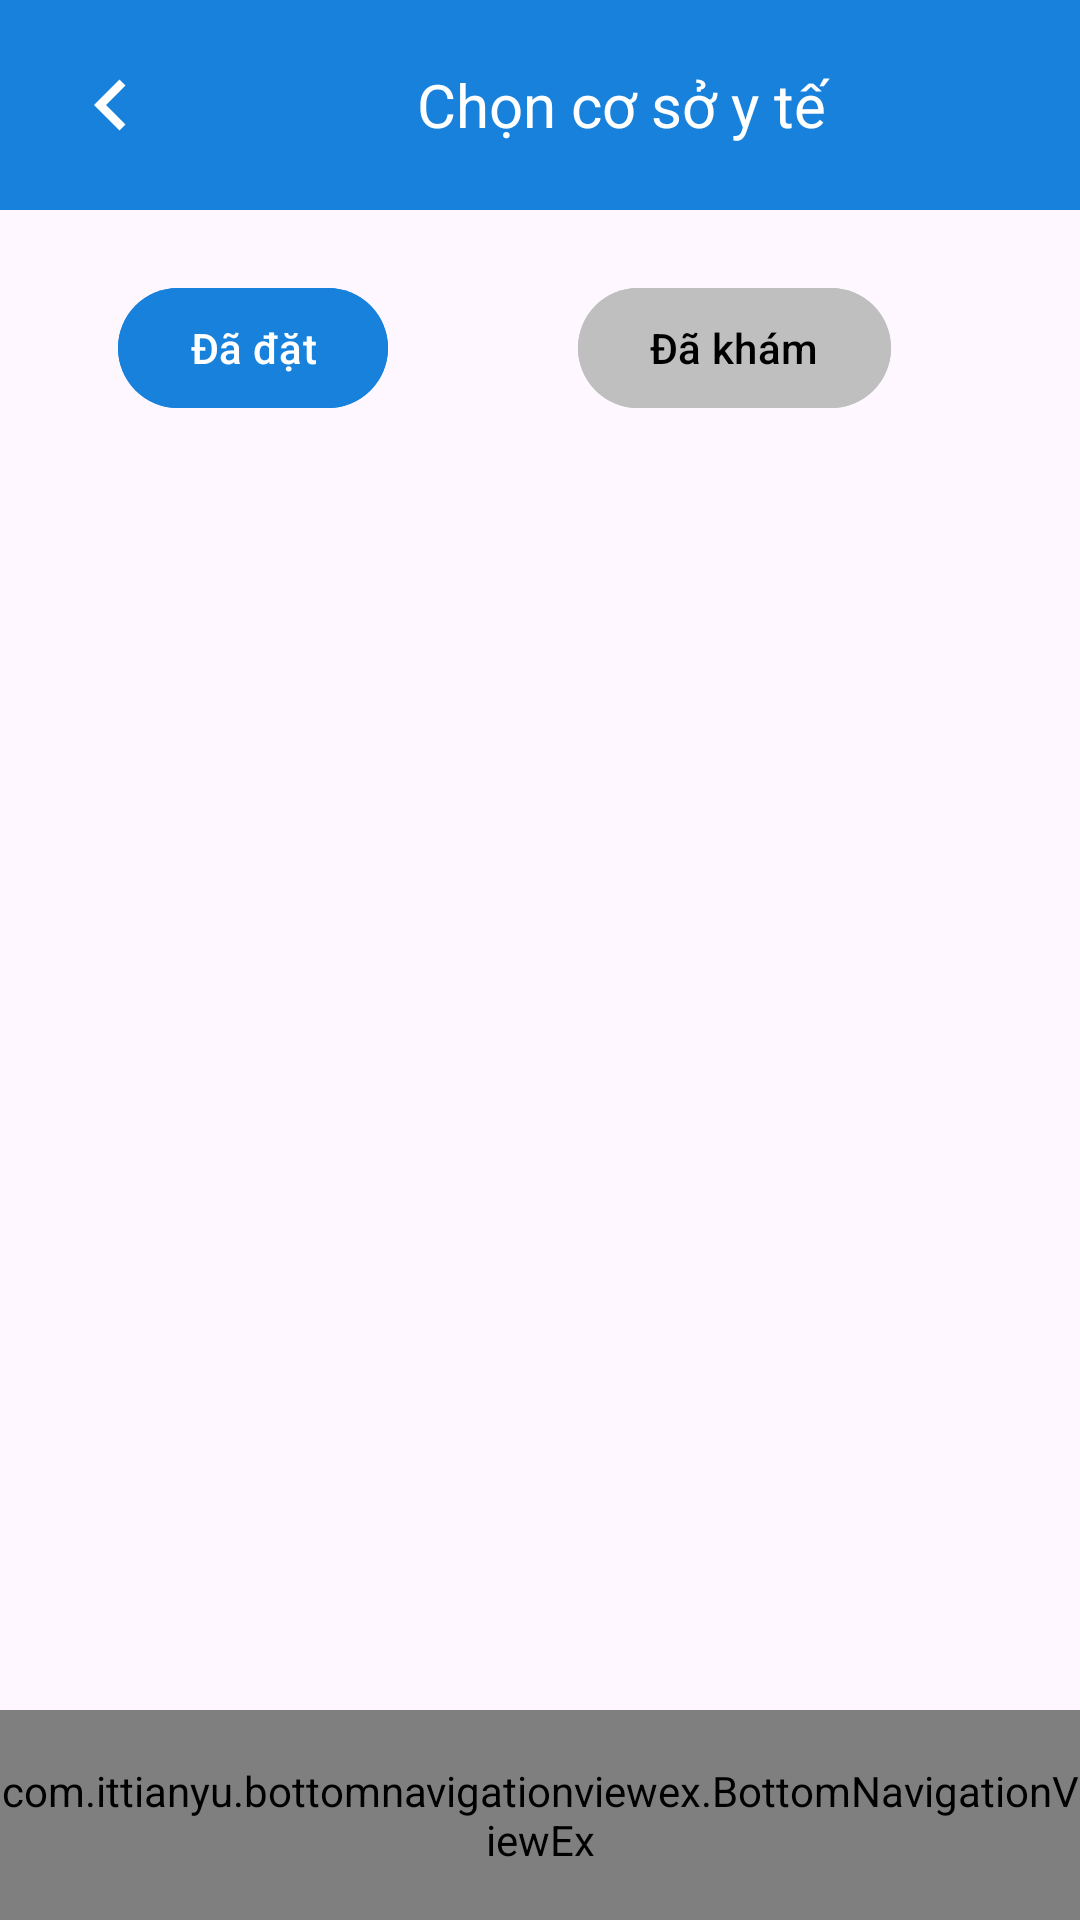

Icons on this 1080x1920 Android screen, each with its box as (x1, y1, x2, y2):
leftback: (94, 79, 126, 131)
